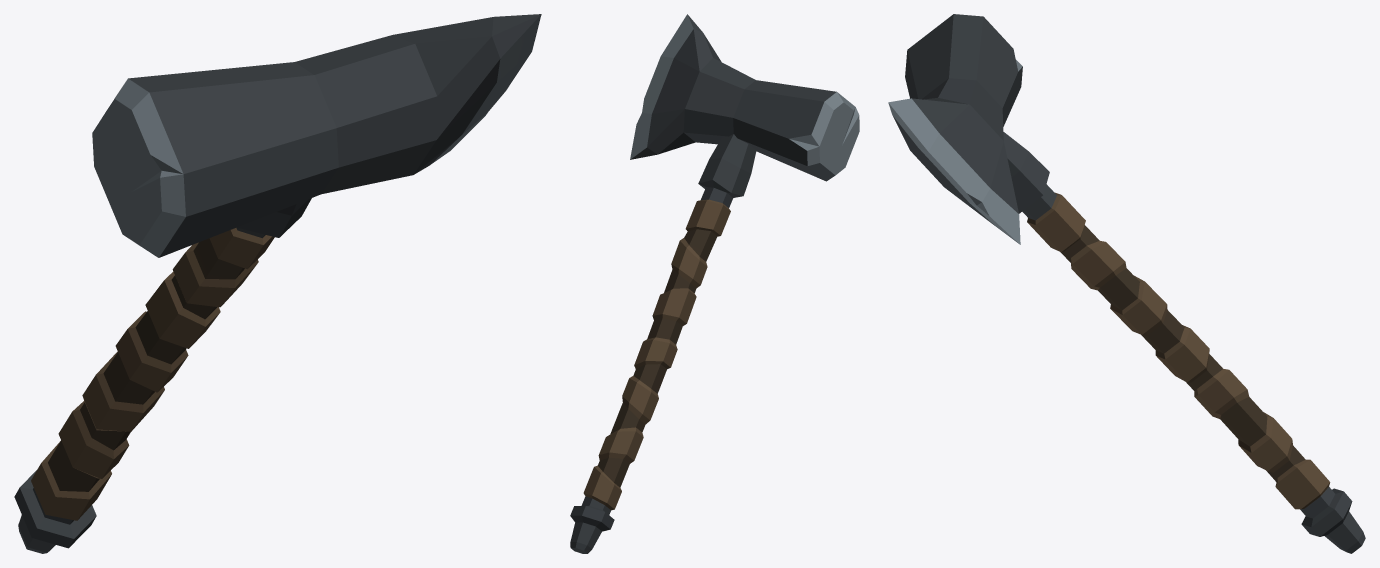
File: fk-axe-09.glb
The picture shows the model from 3 angles, left to right: view 1: azimuth 30°, elevation 25°; view 2: azimuth 150°, elevation 25°; view 3: azimuth 270°, elevation 25°; orthographic projection. The views are drawn at different scales.
Visible parts, largest first — view 1: fk-axe-09; view 2: fk-axe-09; view 3: fk-axe-09.
Boxes of the visible parts, x1=… form: fk-axe-09: x1=14, y1=14, x2=541, y2=553; fk-axe-09: x1=570, y1=14, x2=859, y2=553; fk-axe-09: x1=888, y1=14, x2=1365, y2=553.
Size of the model in its own units: 0.3079 by 0.5847 by 0.5088.
1 material, 1 textured.
